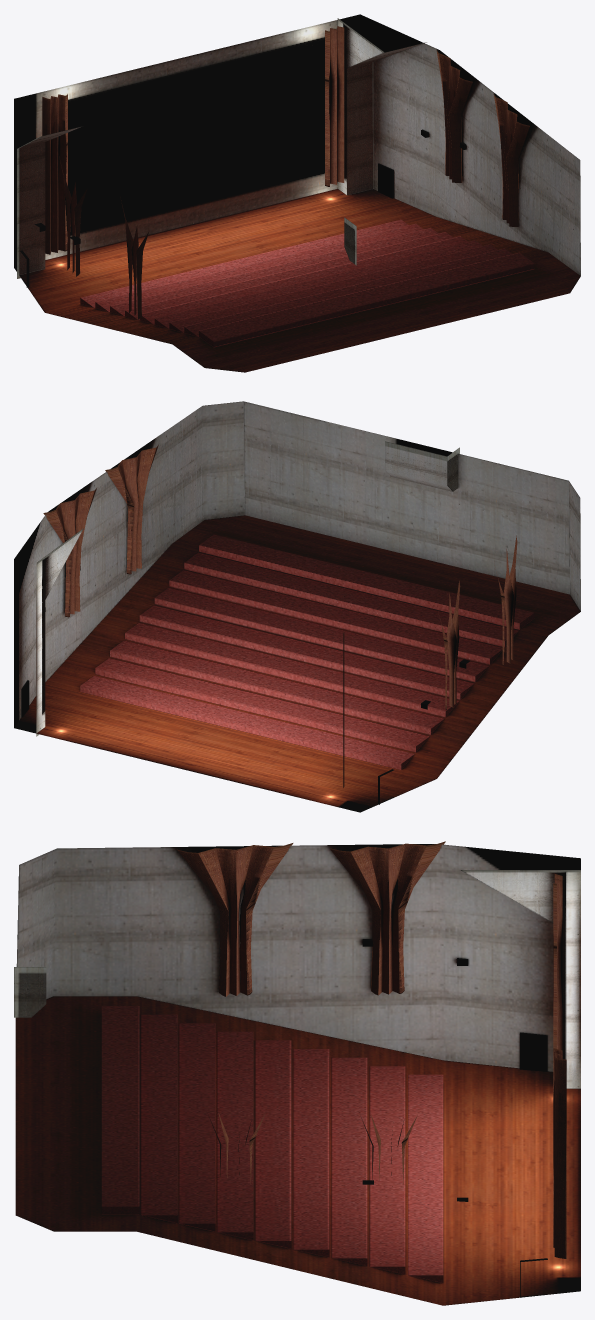
The model's file is cinema.gltf.
3 views of the same model, one above another, from view 1: azimuth 30°, elevation 25°; view 2: azimuth 150°, elevation 25°; view 3: azimuth 270°, elevation 25° (orthographic). The views are drawn at different scales.
Parts seen in each view (by area): view 1: obj11_0; view 2: obj11_0; view 3: obj11_0.
Boxes of the visible parts, <box> form: obj11_0: <box>14,14,580,372</box>; obj11_0: <box>14,401,580,812</box>; obj11_0: <box>14,841,580,1305</box>.
Size of the model in its own units: 30.94 by 13.19 by 29.86.
1 material, 1 textured.
